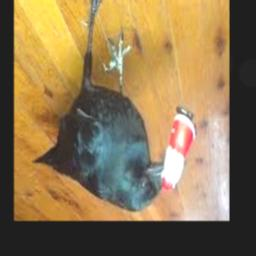Crow: (31, 0, 176, 212)
